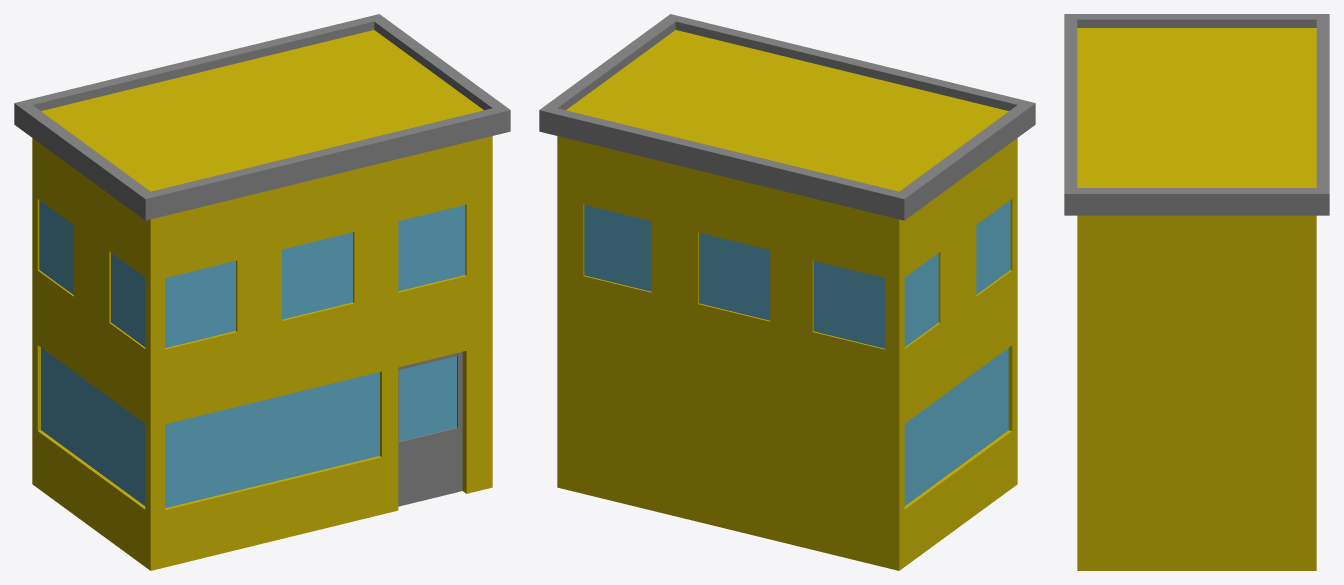
Rendered from building_2.fbx.
The picture shows the model from 3 angles, left to right: view 1: azimuth 30°, elevation 25°; view 2: azimuth 150°, elevation 25°; view 3: azimuth 270°, elevation 25°; orthographic projection.
Visible parts, largest first — view 1: building_2; view 2: building_2; view 3: building_2.
Boxes of the visible parts, <box> form: building_2: <box>14,14,510,570</box>; building_2: <box>539,14,1035,570</box>; building_2: <box>1064,14,1329,570</box>.
Bounding box in the file's own units: 534 × 530 × 333.
